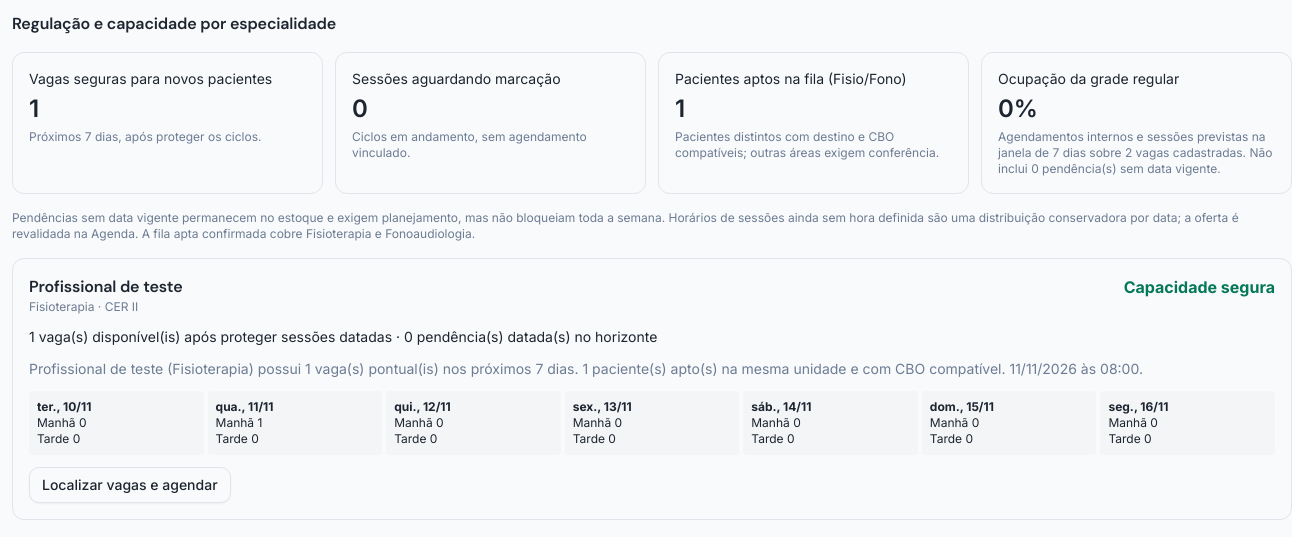
it: cockpit de regulação e navegação oficial › exibe métricas e envia apenas escopo e candidatos à Agenda, sem agendar
Expected: the text "Pacientes aptos na fila (Fisio/Fono)" is shown, x1=675 y1=70 x2=907 y2=87
Click the button "Localizar vagas e agendar". click: [130, 485]
box: x1=29 y1=467 x2=231 y2=503
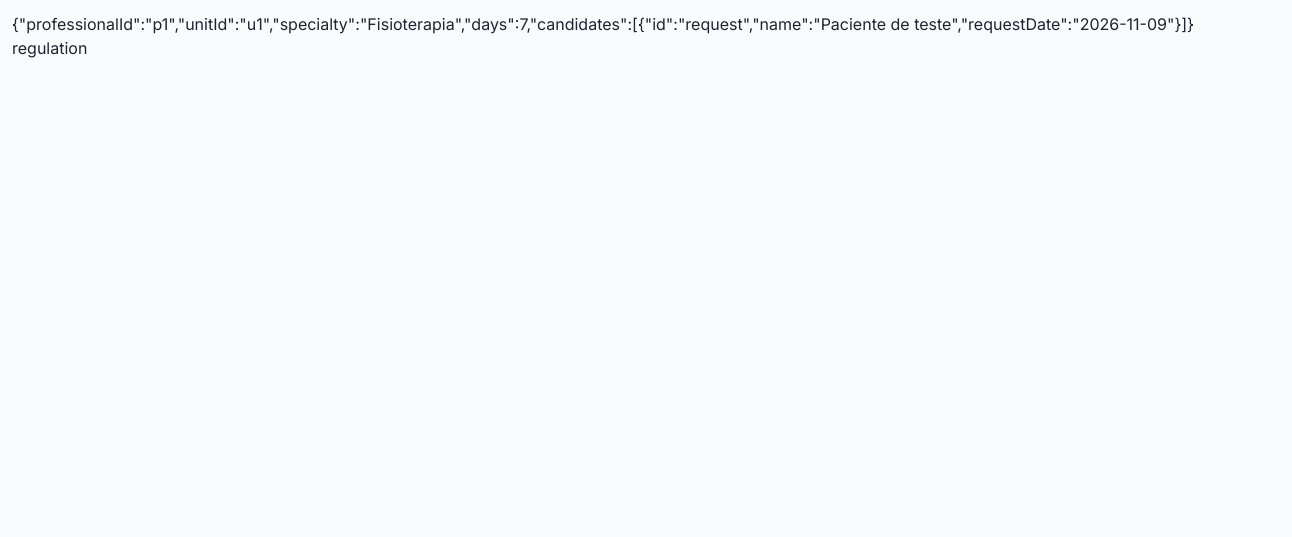
Expected: the text with test id "mode" reads "regulation", x1=12 y1=38 x2=87 y2=58
